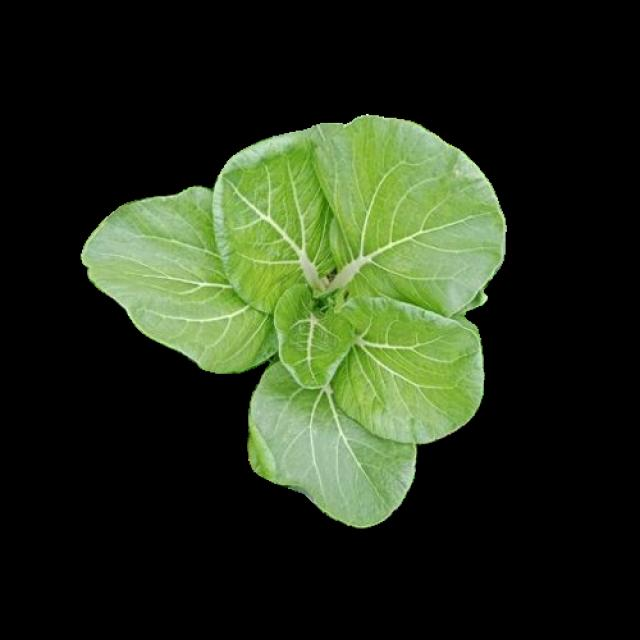healthy: (83, 118, 504, 521)
mature: (86, 121, 507, 524)
